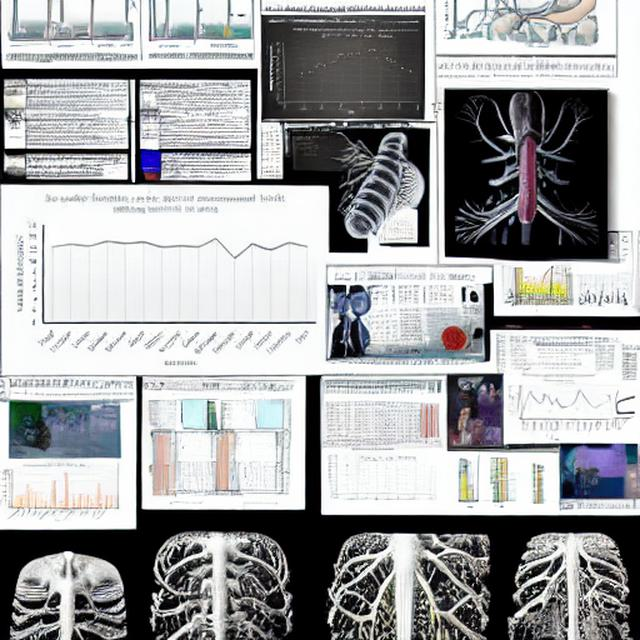Graph: (9, 188, 323, 372), (267, 24, 425, 118), (505, 371, 606, 442), (0, 463, 110, 524), (324, 447, 421, 504)
